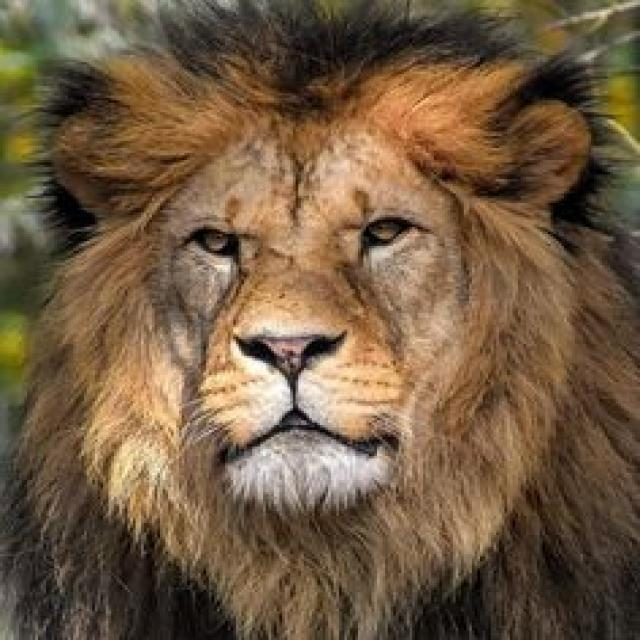lions: (3, 10, 640, 613)
